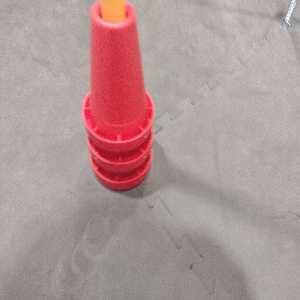Red_3: (79, 0, 156, 205)
